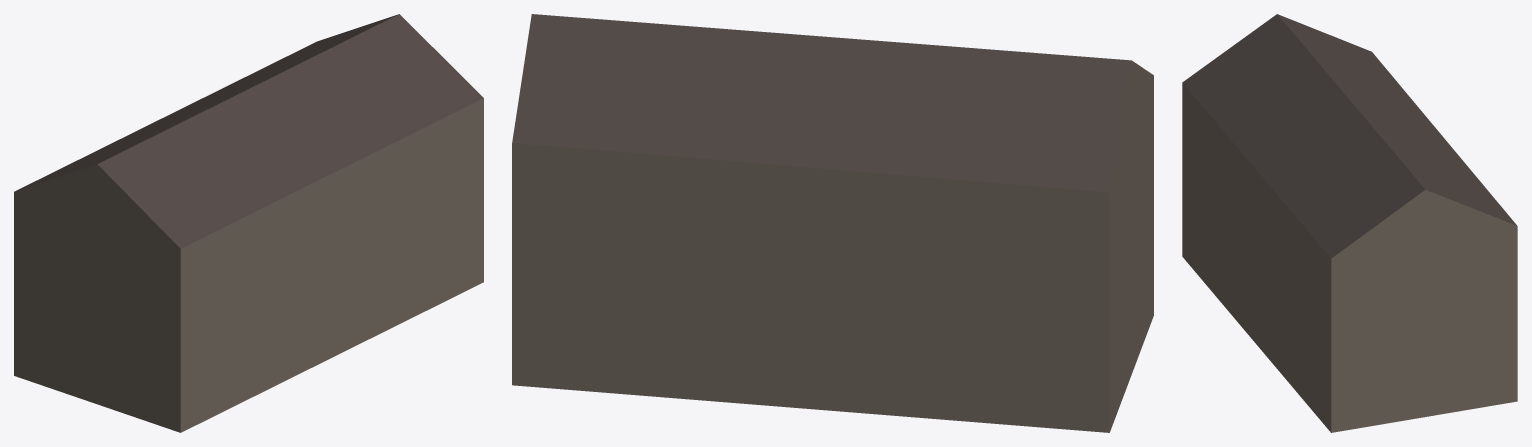
3 renders of one model, left to right at view 1: azimuth 30°, elevation 25°; view 2: azimuth 150°, elevation 25°; view 3: azimuth 270°, elevation 25°, orthographic. The views are drawn at different scales.
Parts seen in each view (by area): view 1: HP-w1197248212; view 2: HP-w1197248212; view 3: HP-w1197248212.
Boxes of the visible parts, x1,y1,x2,y2 form: HP-w1197248212: (14, 14, 483, 432); HP-w1197248212: (512, 14, 1153, 432); HP-w1197248212: (1182, 14, 1517, 432).
Size of the model in its own units: 15.29 by 7.83 by 10.47.
